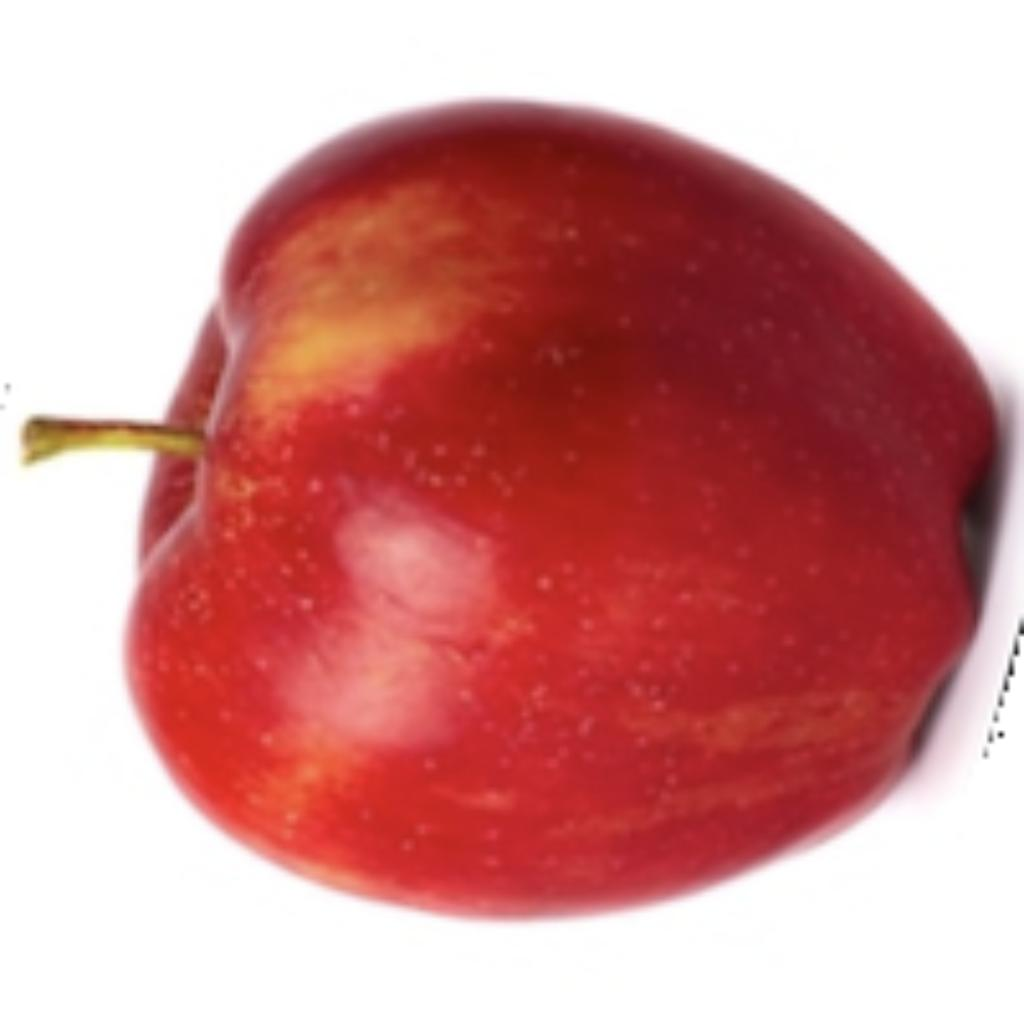apple: (113, 87, 1019, 927)
